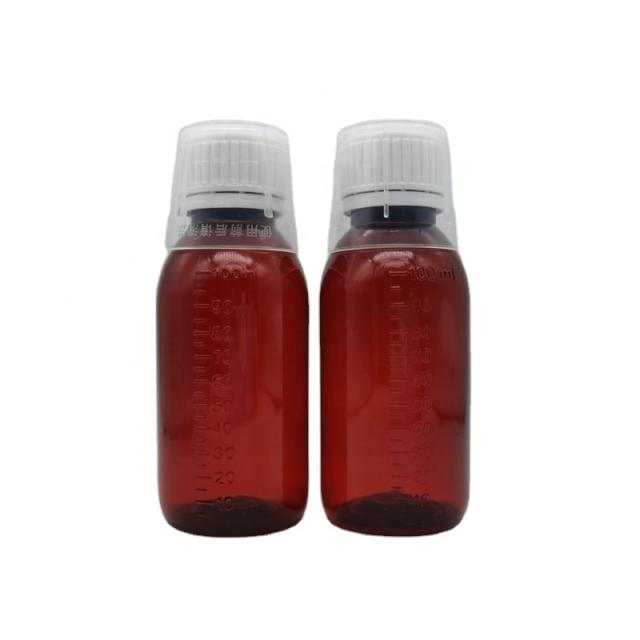B3: (134, 106, 318, 563)
